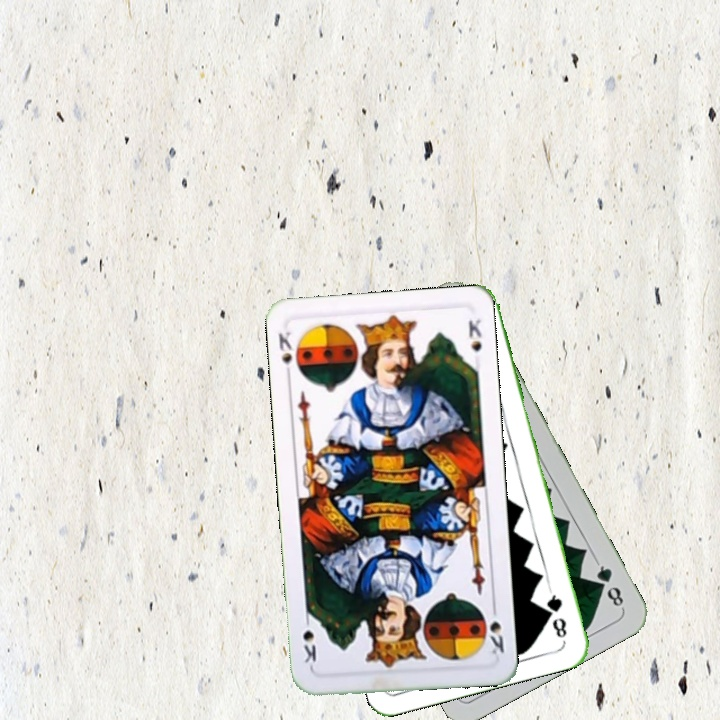G8: (591, 557, 627, 612), (542, 585, 570, 641)
SK: (485, 600, 507, 659), (274, 328, 295, 382)
